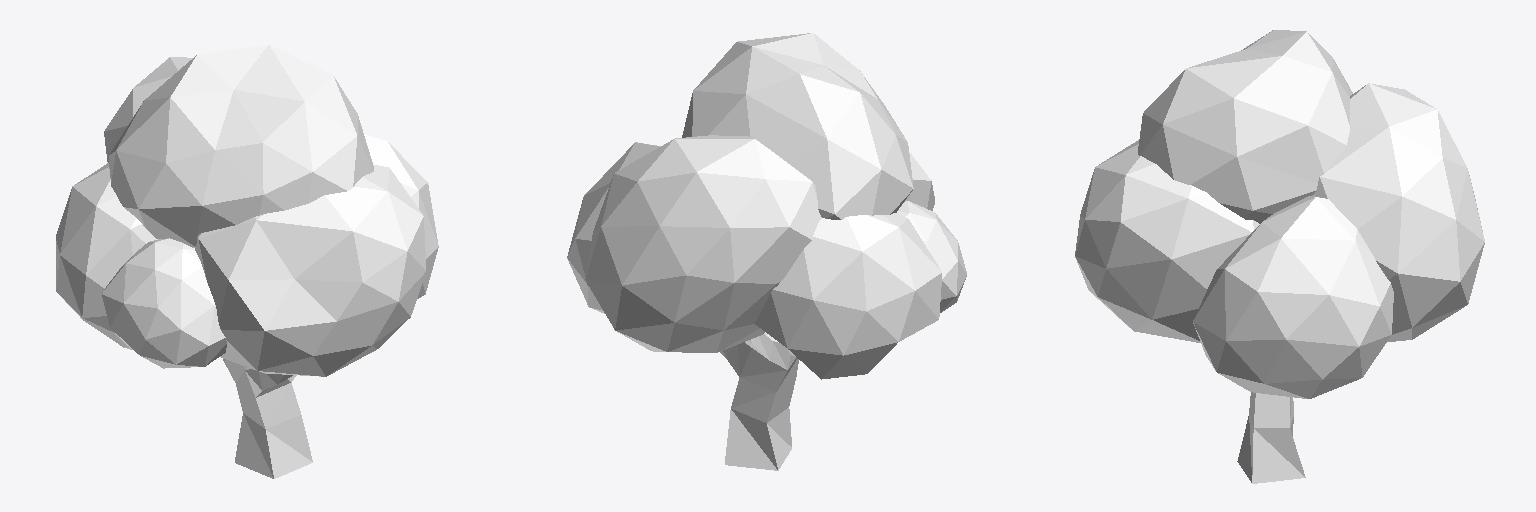
The model's file is OakTree3.obj.
3 views of the same model, side by side, from view 1: azimuth 30°, elevation 25°; view 2: azimuth 150°, elevation 25°; view 3: azimuth 270°, elevation 25° (orthographic).
Size of the model in its own units: 1382 by 1584 by 1423.